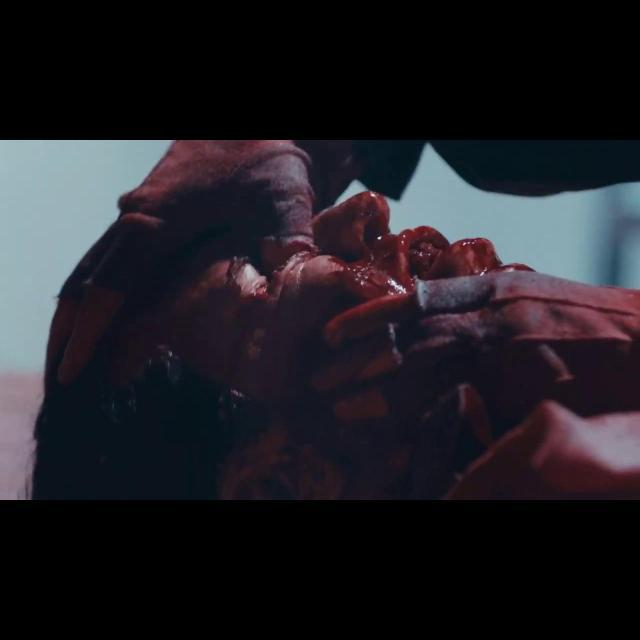blood: (37, 140, 640, 500)
